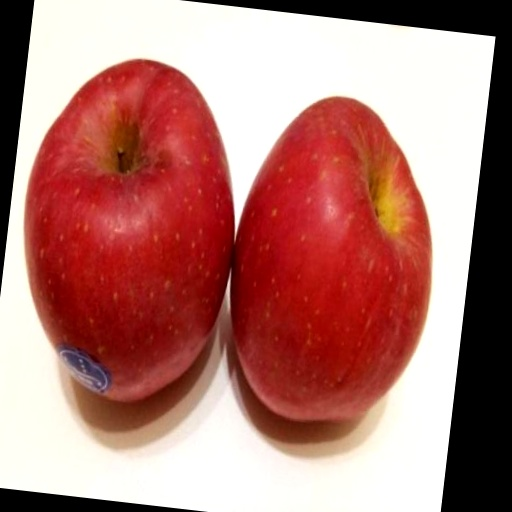fruit: (25, 60, 234, 401), (231, 97, 431, 420)
